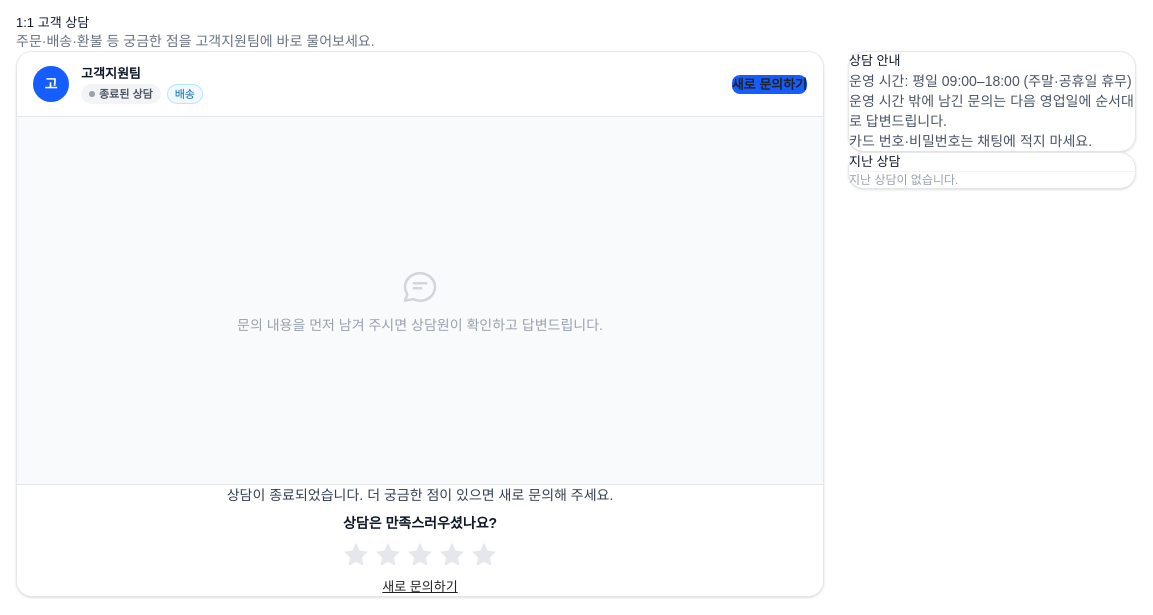
Test: SupportRoom — 고객 상담 화면 › 별점과 한 줄 의견을 한 번 남긴다 — 보내면 감사 문구로 바뀐다
The width and height of the screenshot is (1153, 615).
Click the radio button named "별 4개" at [452, 555], box [438,541,466,569]
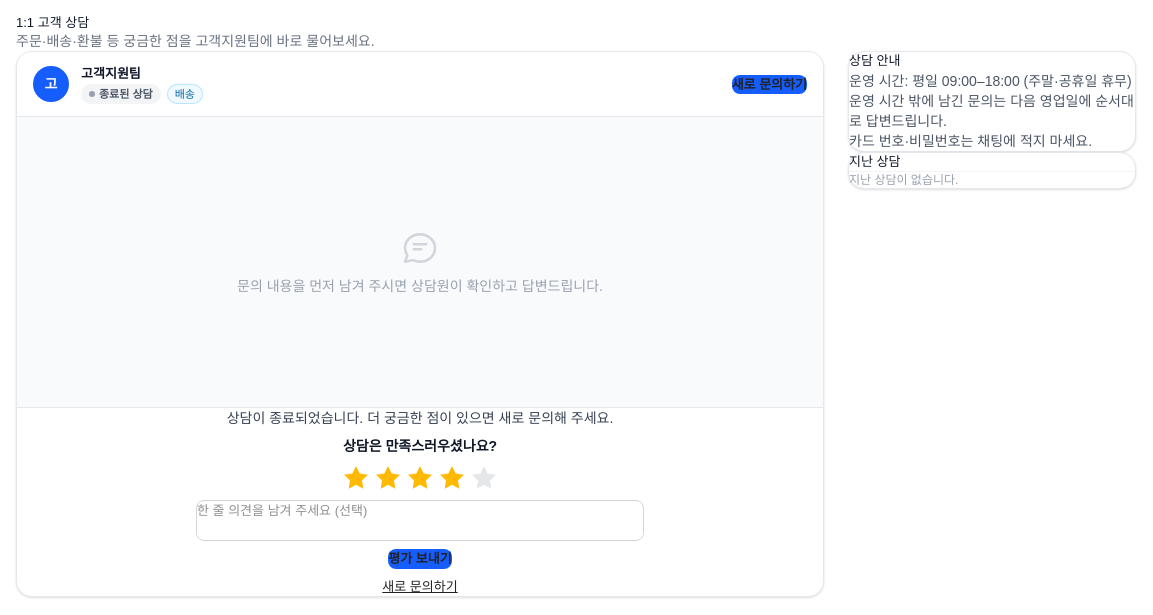
Type "빨랐어요" into the text box labelled "한 줄 의견을 남겨 주세요 (선택)" at [420, 521], box [196,500,644,541]
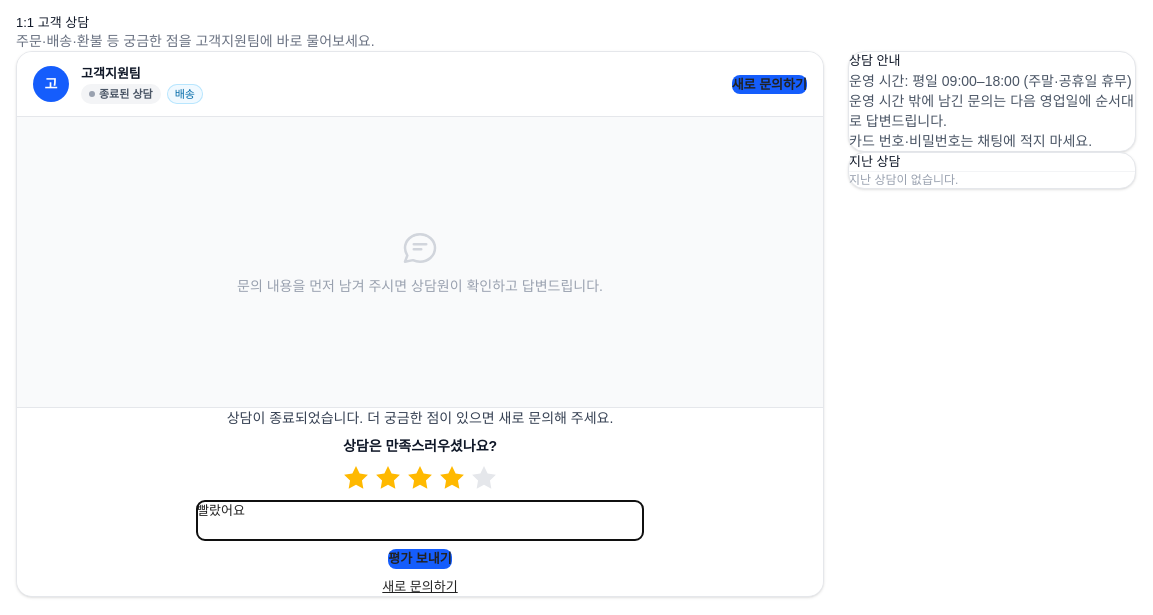
Click the button "평가 보내기" at [420, 559], box [388,549,452,569]
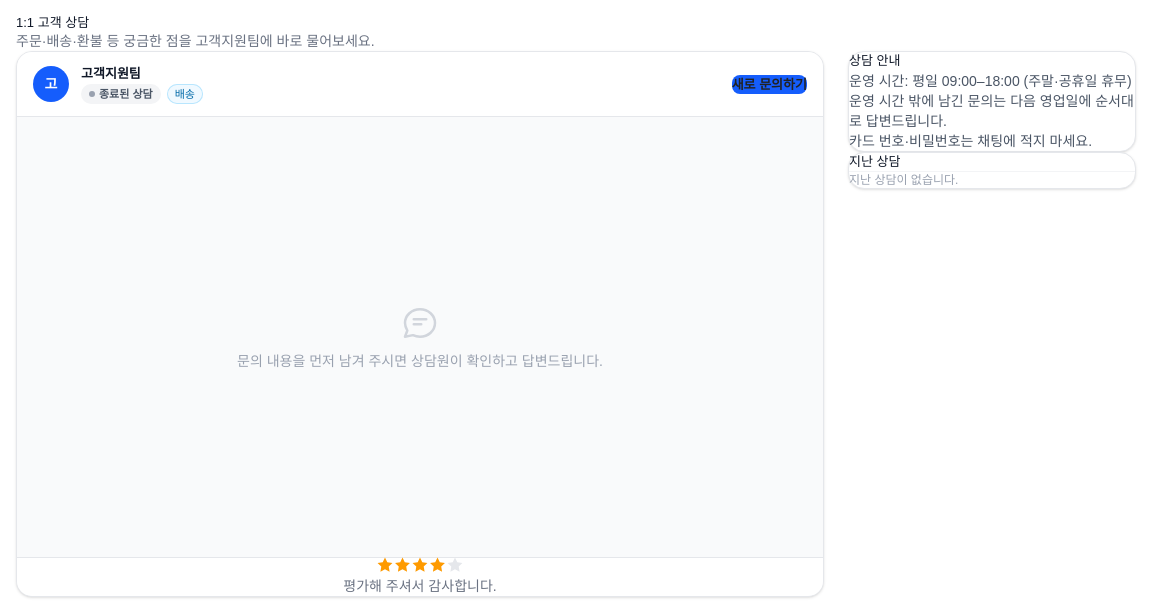
expect the element with test id "rated" reads "평가해 주셔서 감사합니다.": met, box [343,578,497,594]
expect the button "평가 보내기" is gone: met
